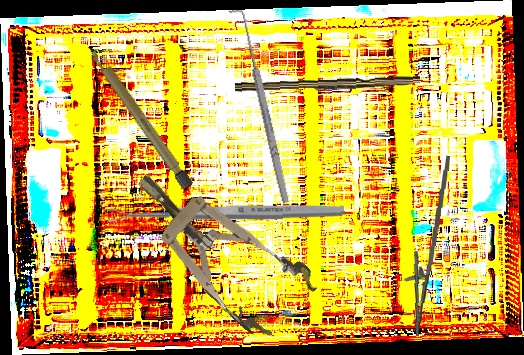Hook Surgical: (228, 5, 293, 207)
Needle Holder: (400, 153, 452, 338)
Scalpel Handle: (86, 43, 195, 192), (234, 73, 421, 97)
Speculum: (113, 145, 324, 347)
Surgical Spoon: (107, 202, 345, 223)
